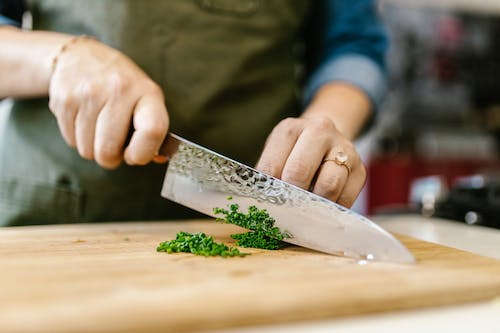knife: (158, 130, 417, 265)
